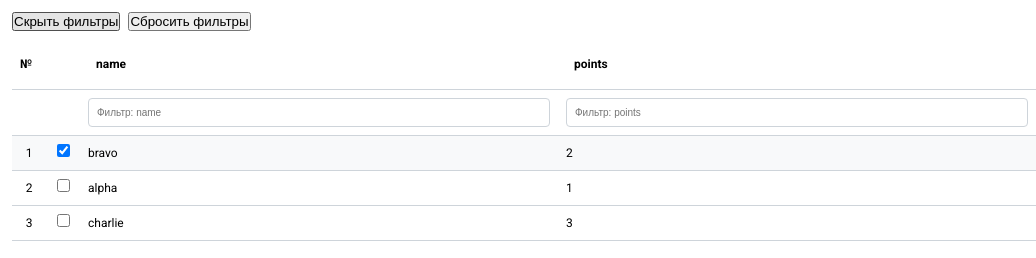
DataTable row selection › keys id-less rows by source index — sorting keeps the selection on its row
The width and height of the screenshot is (1036, 258).
Check: the checkbox named "Выбрать строку" next to "bravo" is checked, box [56,144,70,157]
What coordinates should you click on to do the following:
click the button "name"
I would click on:
 (111, 64)
Its box is [88,47,550,81].
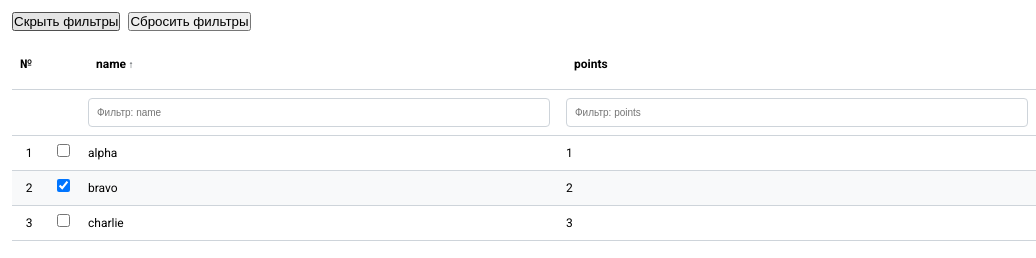
Check: the checkbox named "Выбрать строку" next to "bravo" is checked, box [56,179,70,192]
Check: the checkbox named "Выбрать строку" next to "alpha" is not checked, box [56,144,70,157]
